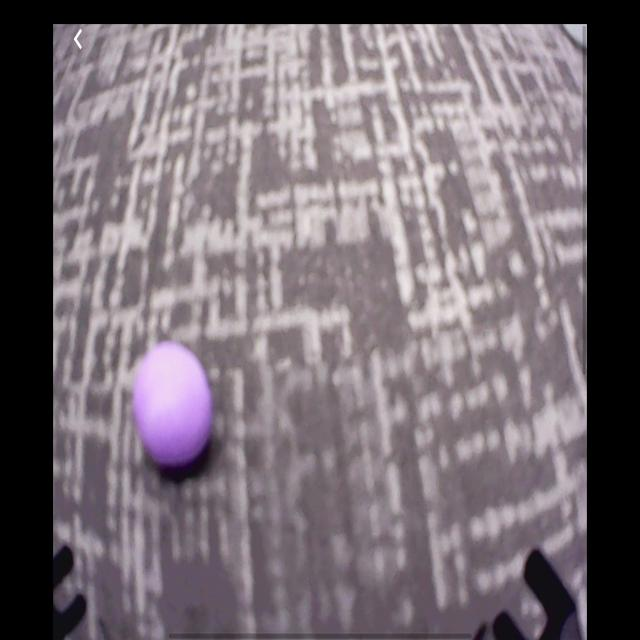ball: (133, 342, 214, 475)
